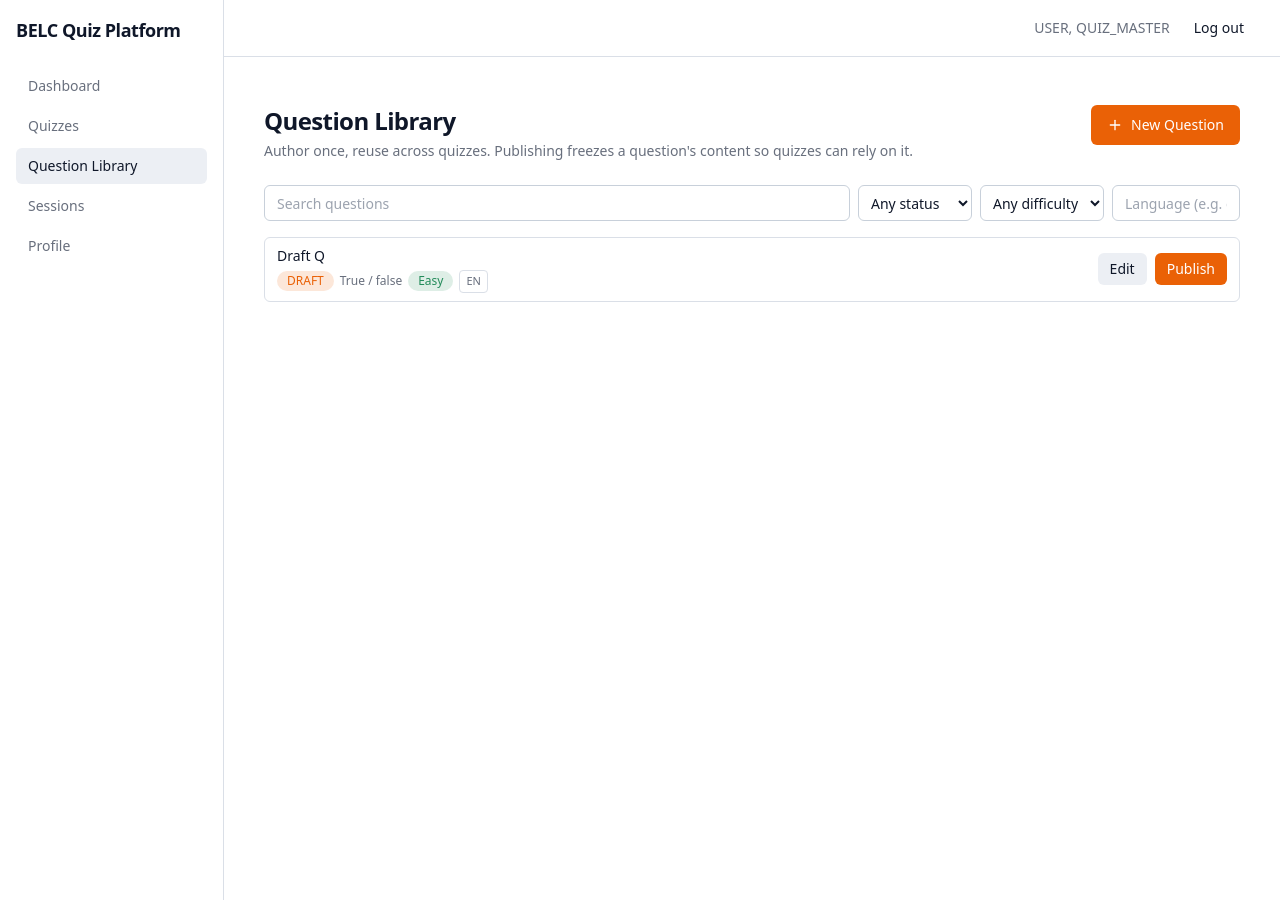
Test case: QuestionLibraryPage › publishes a draft from the library
The image size is (1280, 900).
Check: the link "Draft Q" is shown, box [277,246,325,265]
Click the button "Publish": (1191, 269) [1155,253,1227,285]
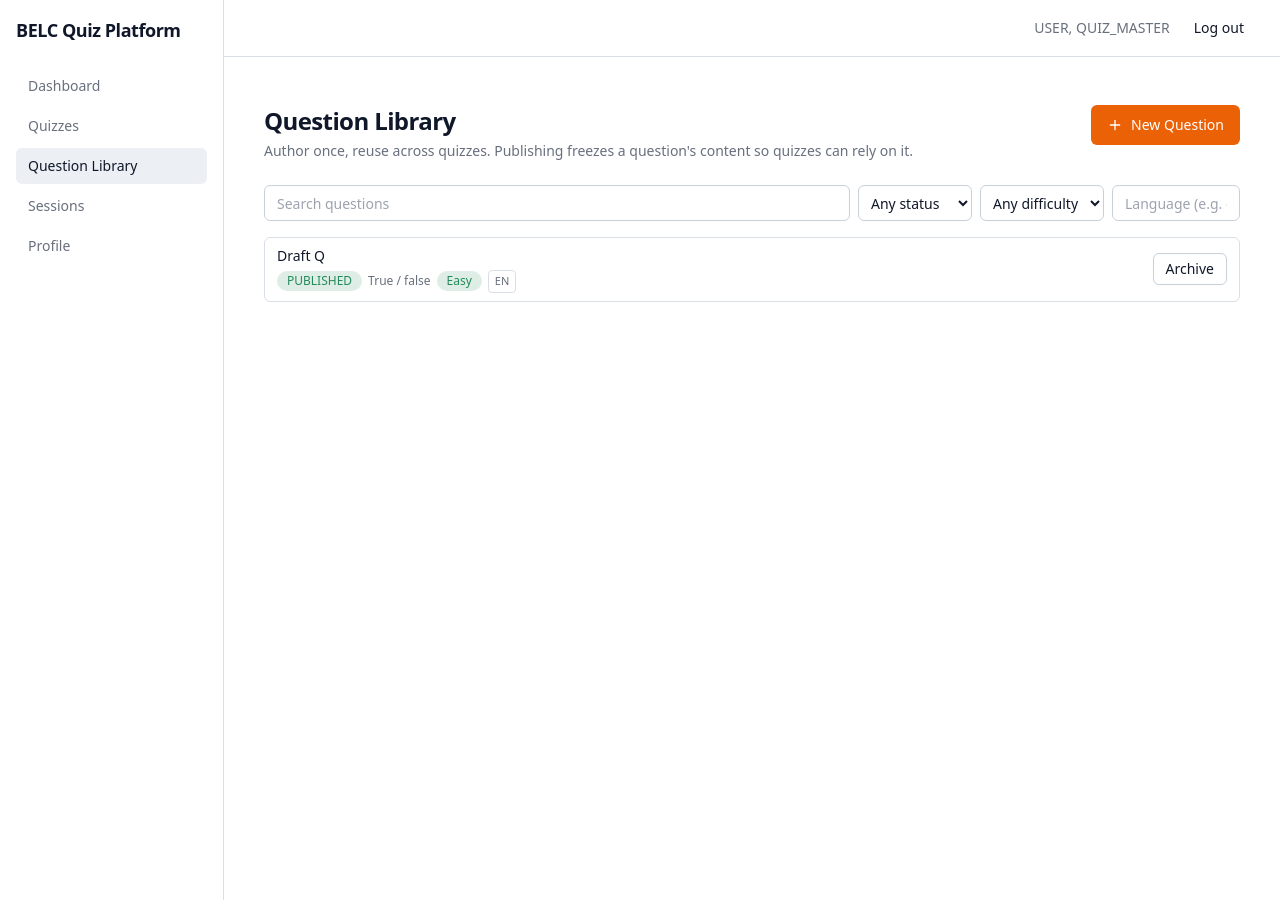
Check: the button "Archive" is shown, box [1152,253,1227,285]
